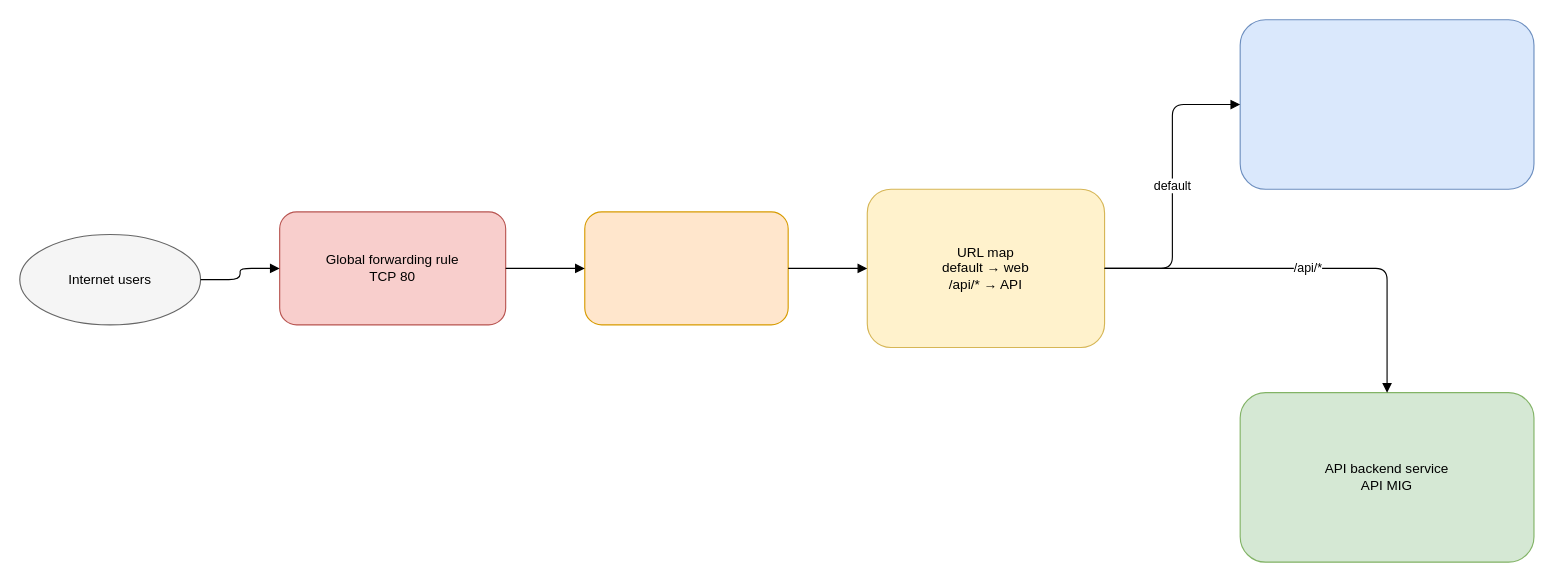
Some shapes in this 1554 by 582 pixel diagram are drawn without their labels. Each missing label, with the box of its shape:
Target HTTP proxy: (584, 211, 788, 325)
Web backend service Web MIG: (1239, 19, 1534, 189)
